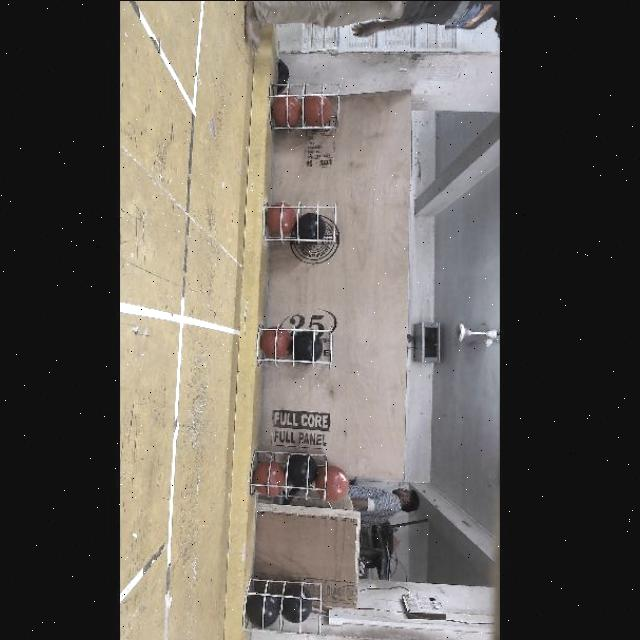P: (248, 588, 278, 620), (294, 330, 322, 362), (288, 454, 316, 486), (282, 587, 310, 619), (298, 214, 326, 242)
R: (316, 466, 349, 503), (254, 462, 284, 496), (271, 90, 299, 124), (267, 203, 295, 233), (262, 327, 290, 357), (304, 95, 328, 125)
S: (242, 572, 326, 640), (252, 449, 336, 508), (268, 83, 344, 135), (261, 200, 339, 246), (256, 325, 336, 369)
